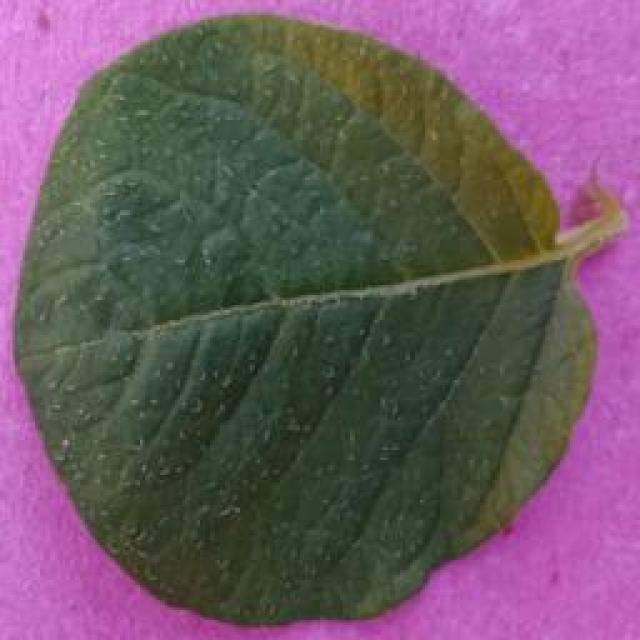Potato_Healthy: (14, 15, 612, 622)
